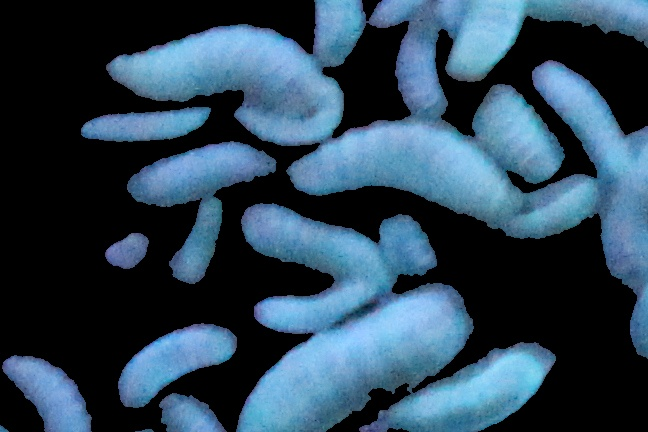larvae: (235, 288, 472, 432), (293, 118, 510, 225), (92, 12, 314, 108), (384, 339, 558, 432), (245, 200, 382, 283), (116, 326, 246, 409), (528, 60, 628, 164), (126, 139, 275, 200), (227, 78, 356, 145), (476, 83, 563, 181), (3, 351, 92, 432), (604, 129, 648, 288), (506, 181, 602, 248), (526, 1, 648, 53), (445, 1, 519, 84), (250, 283, 369, 332), (79, 110, 221, 146), (399, 1, 443, 112), (170, 193, 221, 284), (311, 1, 363, 67)
